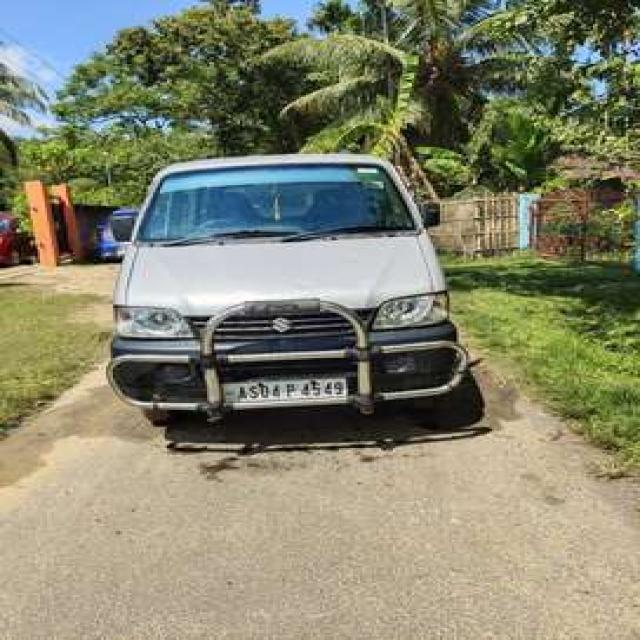Plate: (222, 378, 347, 402)
